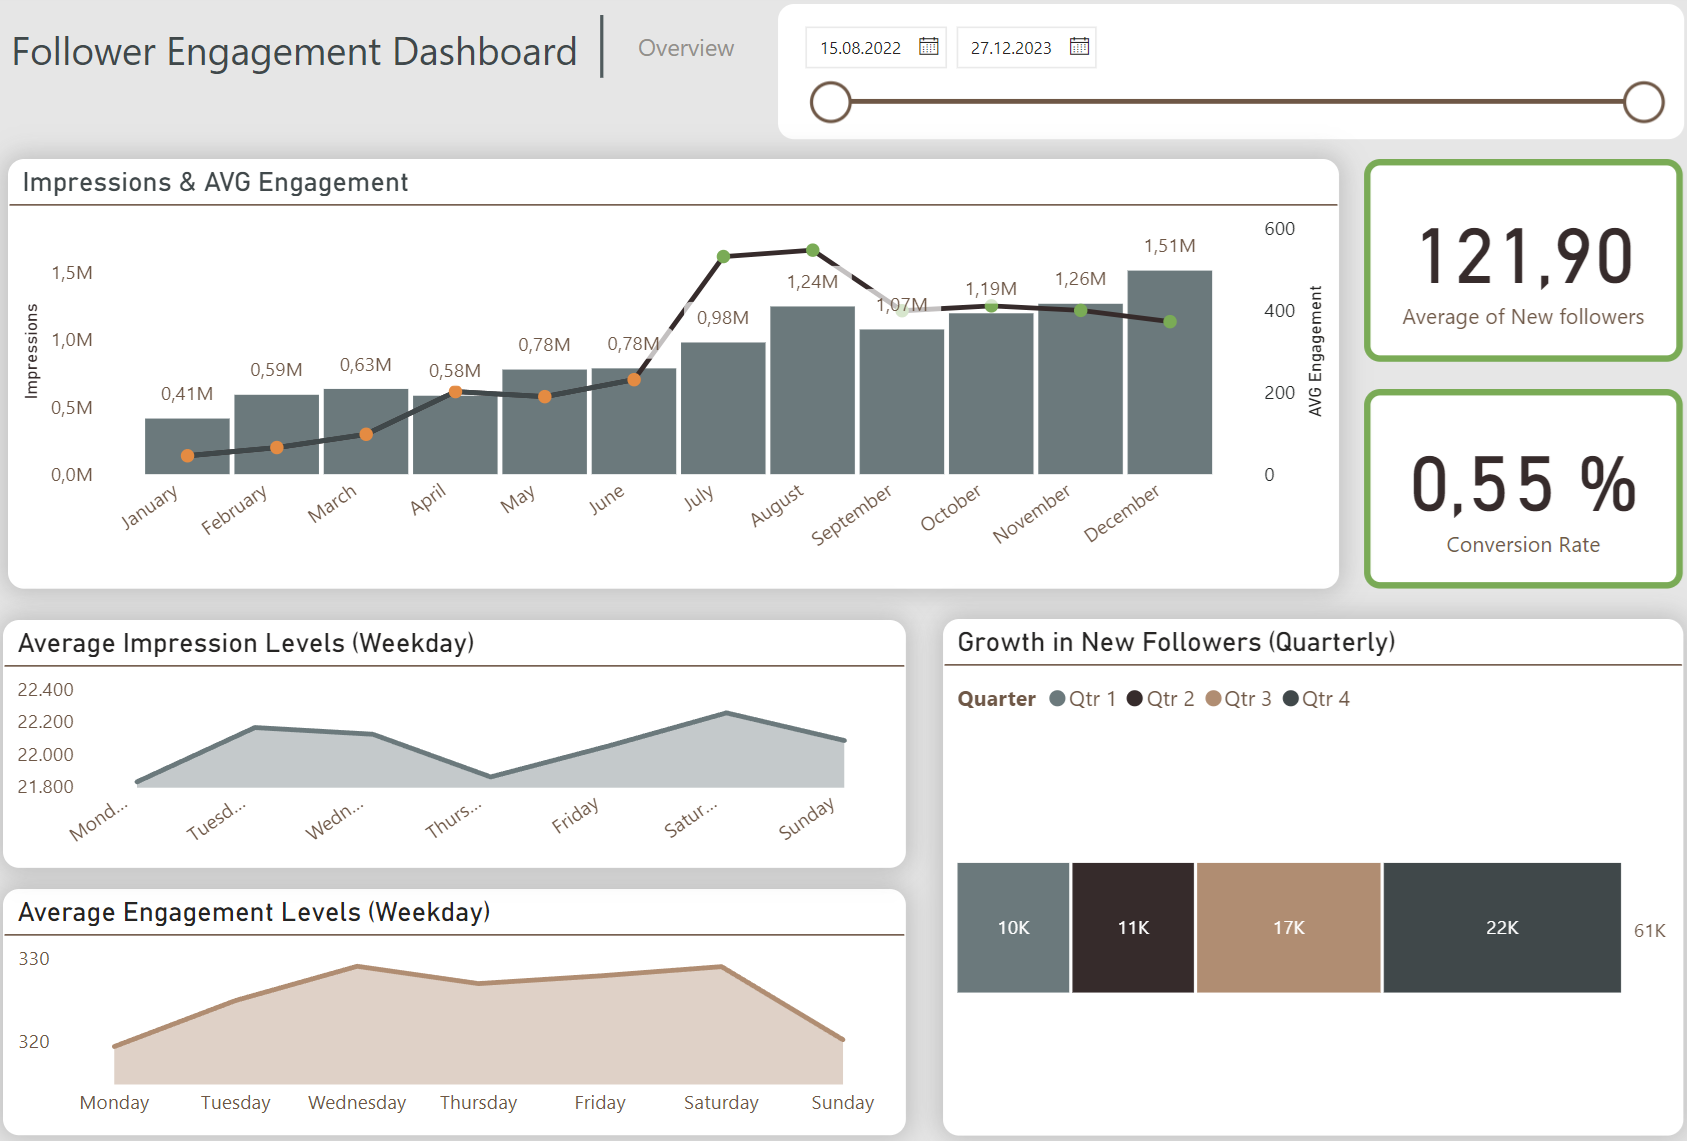

What the dashboard file says about the page in this screenshot:
{"tool":"powerbi","page":{"name":"Engagement","canvas":[1280,720],"ordinal":1},"visuals":[{"type":"shape","box":[5.2,5.2,130.5,708.8],"z":0},{"type":"textbox","box":[174.9,12.6,371.3,57.1],"z":1000},{"type":"image","box":[5.2,556.3,130.5,157.7],"z":2000},{"type":"shape","box":[537.5,12.5,18.3,39.2],"z":3000},{"type":"textbox","box":[564.4,16.7,98.9,48.9],"z":4000},{"type":"actionButton","box":[36.8,28.8,74.1,60.7],"z":5000},{"type":"stackedAreaChart","title":"Average Engagement Levels (Weekday)","fields":{"Category":["followers_data_growth.Weekday Name"],"Y":["followers_data_growth.Total Engagement per Weekday"]},"box":[174.6,555.5,561.1,153.5],"z":6000},{"type":"card","title":"(Impression to NewFollower)","fields":{"Values":["followers_data_growth.Conversion Rate"]},"box":[1020.3,244.8,198.2,123.7],"z":7000},{"type":"slicer","fields":{"Values":["followers_data_growth.Date"]},"box":[651.4,5.4,567.1,84.3],"z":8000},{"type":"lineStackedColumnComboChart","title":"Impressions & AVG Engagement","fields":{"Category":["followers_data_growth.Date.Variation.Date Hierarchy.Month"],"Y":["Sum(followers_data_growth.Impressions)"],"Y2":["Avg(followers_data_growth.Engagements)","followers_data_growth.Filtered Avg Engagements","followers_data_growth.Filtered Avg Engagements red"]},"box":[177.9,101.7,826.6,266.8],"z":9000},{"type":"areaChart","title":"Average Impression Levels (Weekday)","fields":{"Category":["followers_data_growth.Weekday Name"],"Y":["followers_data_growth.Average Impression per Weekday"]},"box":[174.5,388.1,561.1,154.2],"z":10000},{"type":"image","box":[31.9,244.5,77.4,73.7],"z":11000},{"type":"image","box":[30.1,353.2,84.8,84.8],"z":12000},{"type":"card","fields":{"Values":["Avg(followers_data_growth.New followers)"]},"box":[1020.3,101.9,198.2,126.1],"z":13000},{"type":"barChart","title":"Growth in New Followers (Quarterly)","fields":{"Series":["followers_data_growth.Date.Variation.Date Hierarchy.Quarter"],"Y":["Sum(followers_data_growth.New followers)"]},"box":[758.4,387.9,460.1,321],"z":14000},{"type":"shape","box":[20.3,344.6,102.6,103.8],"z":15000},{"type":"image","box":[37,146,71.4,70.1],"z":16000},{"type":"actionButton","box":[1185.3,245.5,29.9,36.8],"z":19000}]}

Visuals, with their boxes on the page's 1280x720 design canvas (x1, y1, x2, y2). These are canvas units, not pixel positions in the 1687x1141 screenshot, which may show the page scaled, cropped or inside an application window:
shape: [5,5,136,714]
textbox: [175,13,546,70]
image: [5,556,136,714]
shape: [538,12,556,52]
textbox: [564,17,663,66]
actionButton: [37,29,111,90]
"Average Engagement Levels (Weekday)" stackedAreaChart: [175,556,736,709]
"(Impression to NewFollower)" card: [1020,245,1218,368]
slicer - followers_data_growth.Date: [651,5,1218,90]
"Impressions & AVG Engagement" lineStackedColumnComboChart: [178,102,1004,368]
"Average Impression Levels (Weekday)" areaChart: [174,388,736,542]
image: [32,244,109,318]
image: [30,353,115,438]
card - Avg(followers_data_growth.New followers): [1020,102,1218,228]
"Growth in New Followers (Quarterly)" barChart: [758,388,1218,709]
shape: [20,345,123,448]
image: [37,146,108,216]
actionButton: [1185,246,1215,282]
